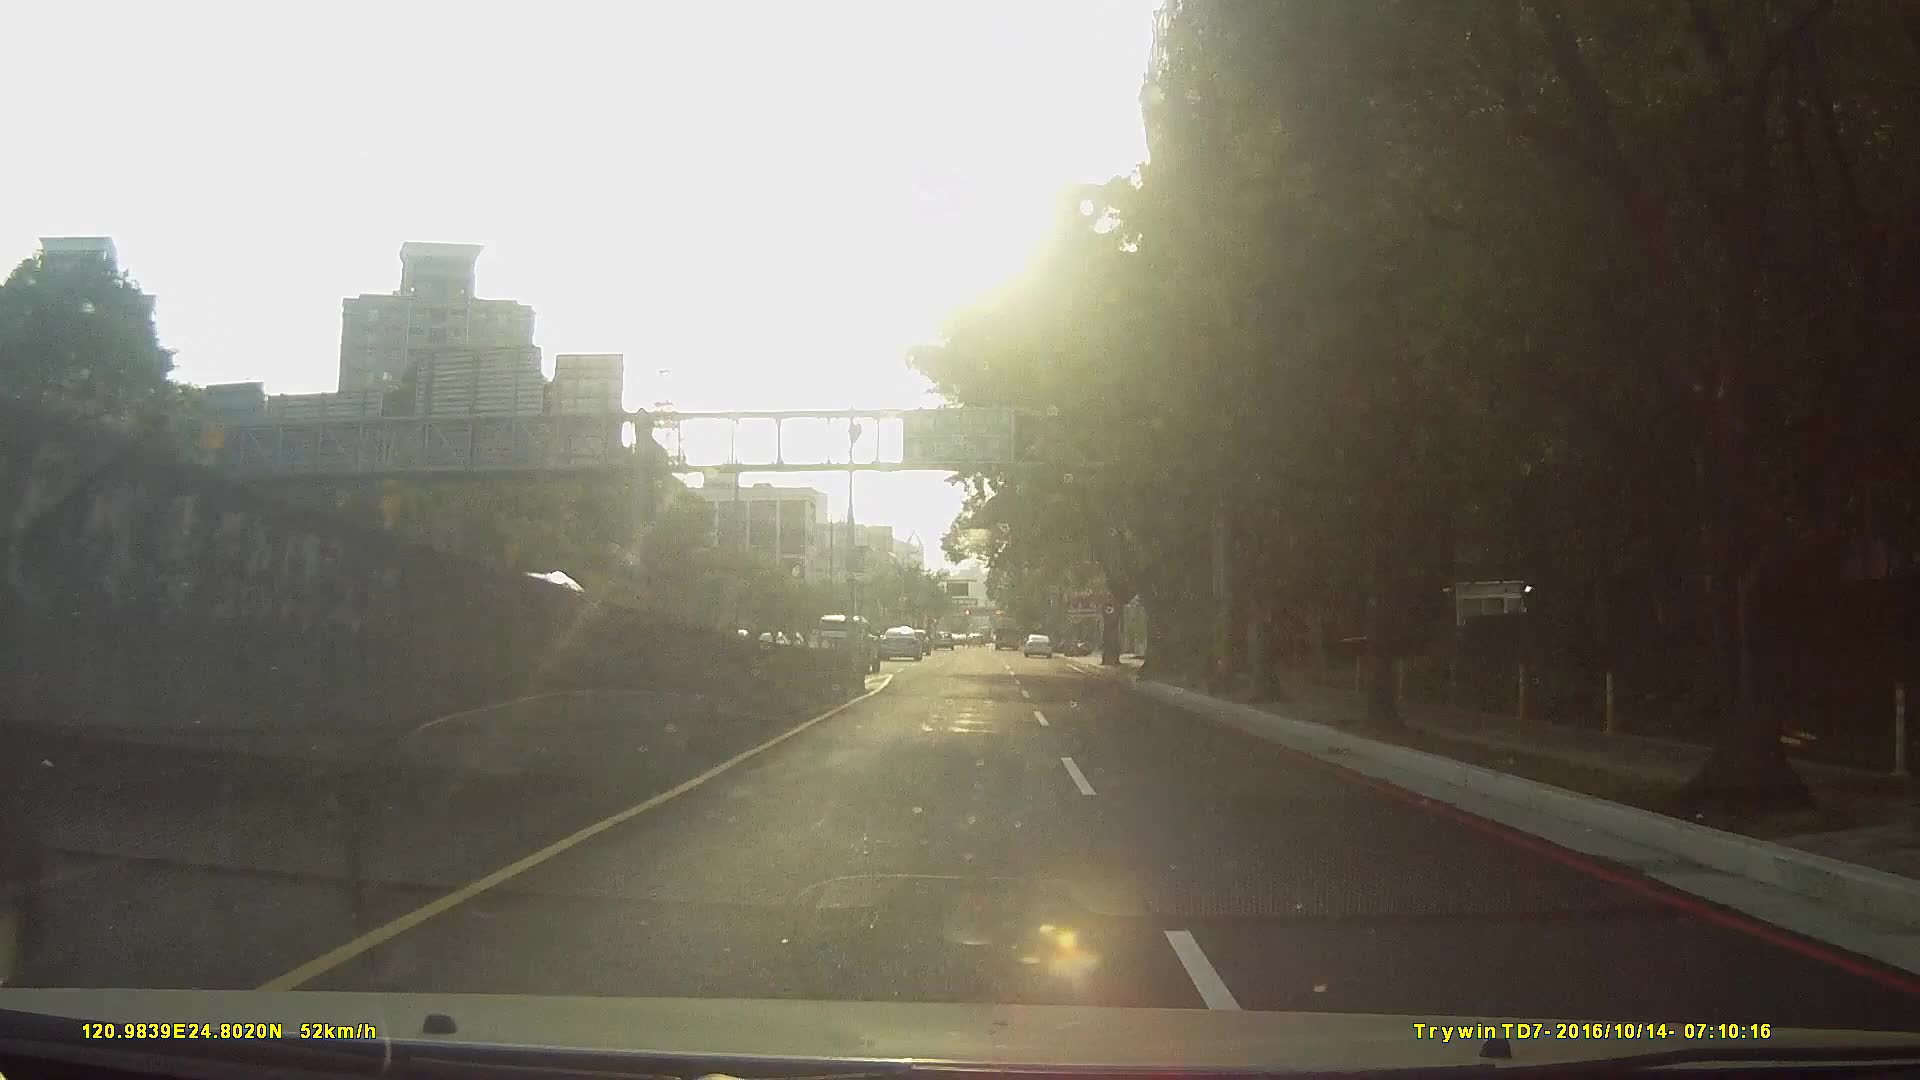vehicle: (815, 615, 881, 676), (877, 625, 920, 661), (992, 613, 1023, 647), (1022, 634, 1054, 659)
